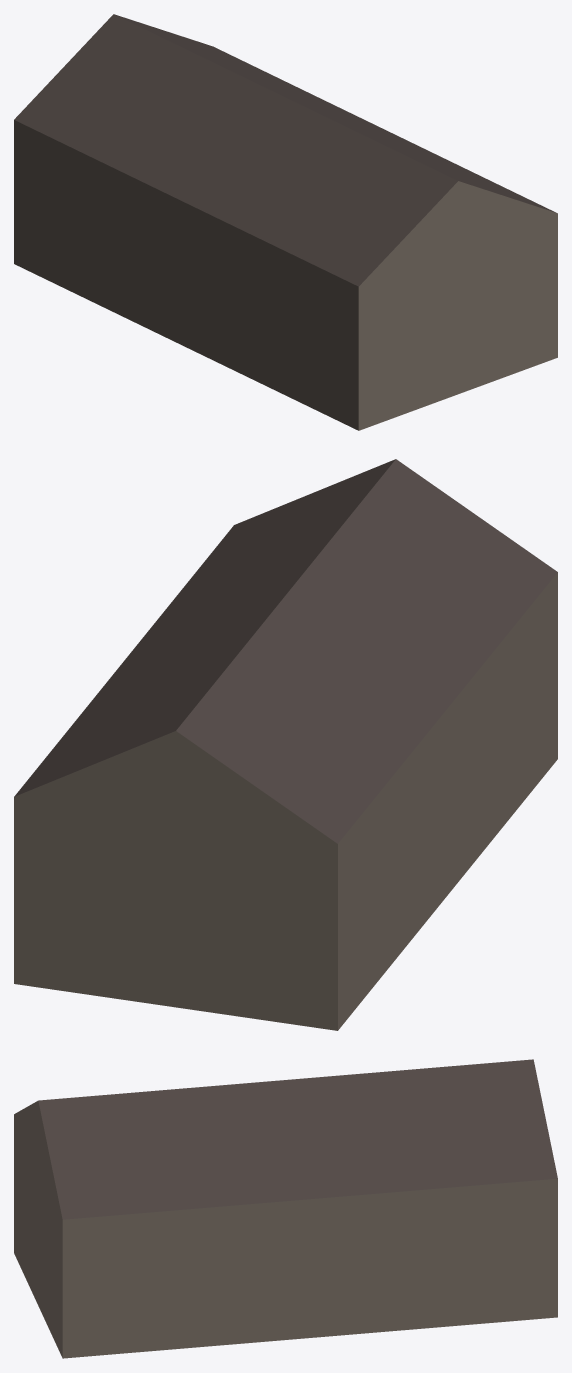
3 renders of one model, top to bottom at view 1: azimuth 30°, elevation 25°; view 2: azimuth 150°, elevation 25°; view 3: azimuth 270°, elevation 25°, orthographic. The views are drawn at different scales.
Parts seen in each view (by area): view 1: HP-w1376988800; view 2: HP-w1376988800; view 3: HP-w1376988800.
Boxes of the visible parts, bbox=[...] form: HP-w1376988800: bbox=[14, 14, 557, 430]; HP-w1376988800: bbox=[14, 459, 557, 1030]; HP-w1376988800: bbox=[14, 1059, 557, 1358].
Bounding box in the file's own units: 13.59 × 8.88 × 21.31.
